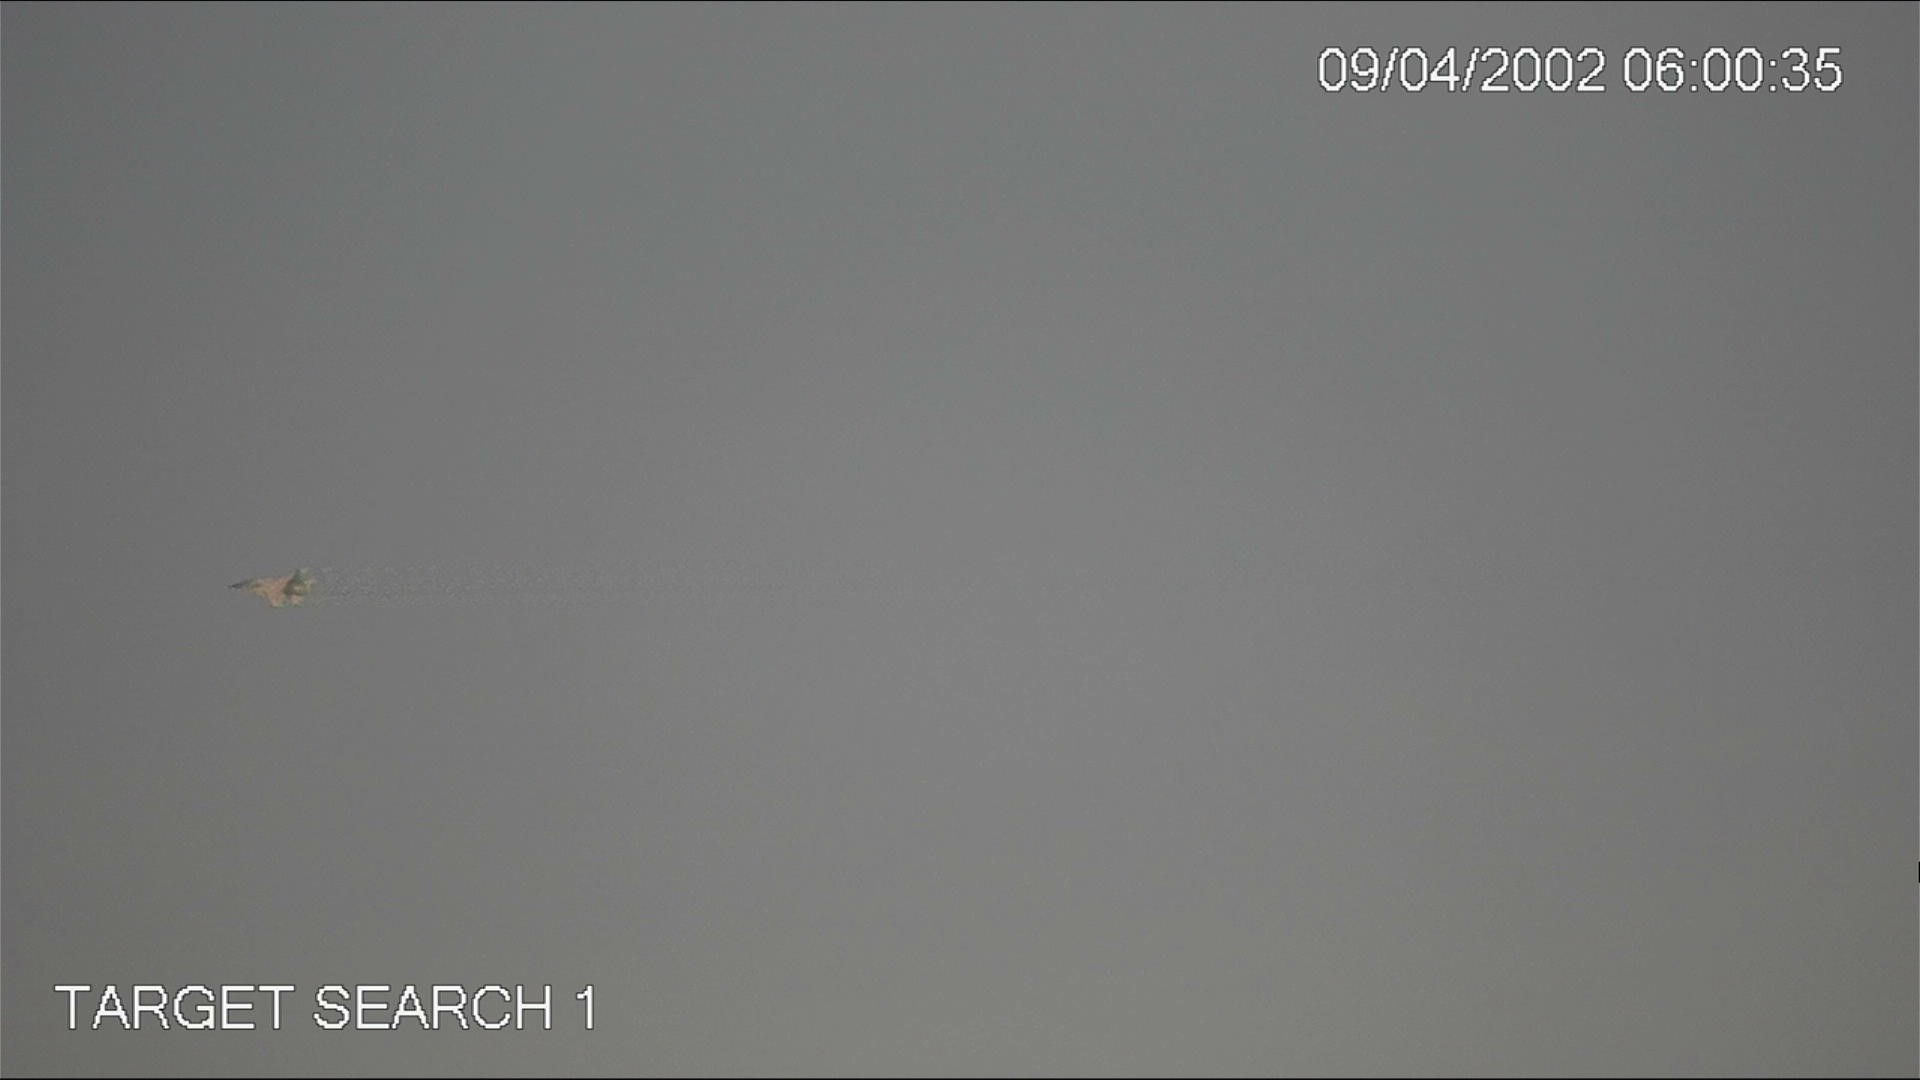SU_30: (227, 567, 316, 608)
